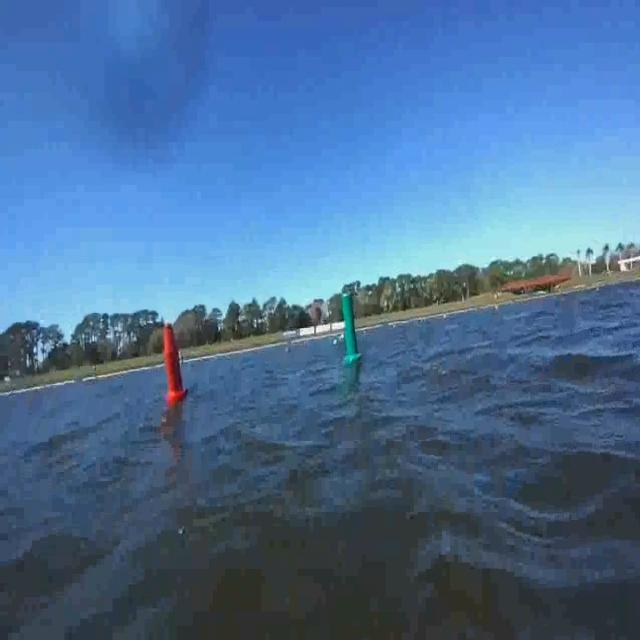green-column-buoy: (342, 294, 364, 366)
red-column-buoy: (162, 323, 187, 400)
